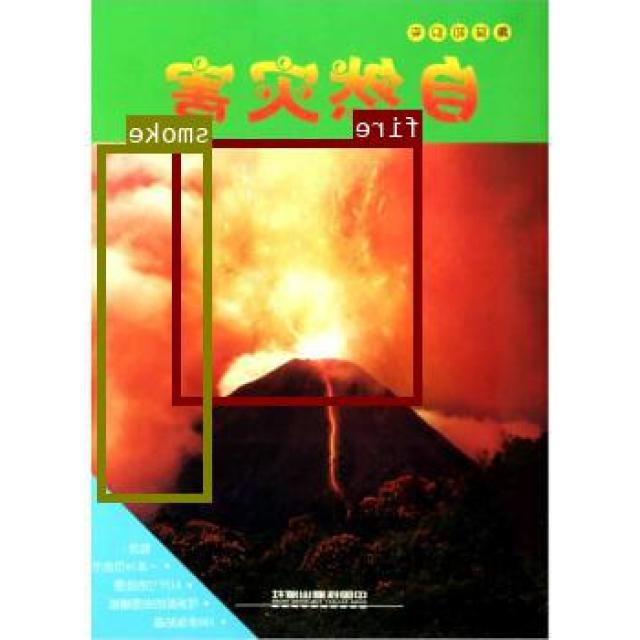fire: (175, 138, 423, 403)
smoke: (100, 144, 213, 501)
